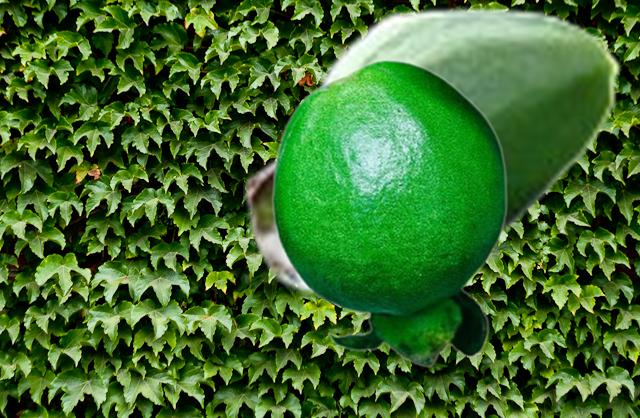guava: (243, 4, 621, 294), (270, 59, 507, 366)
